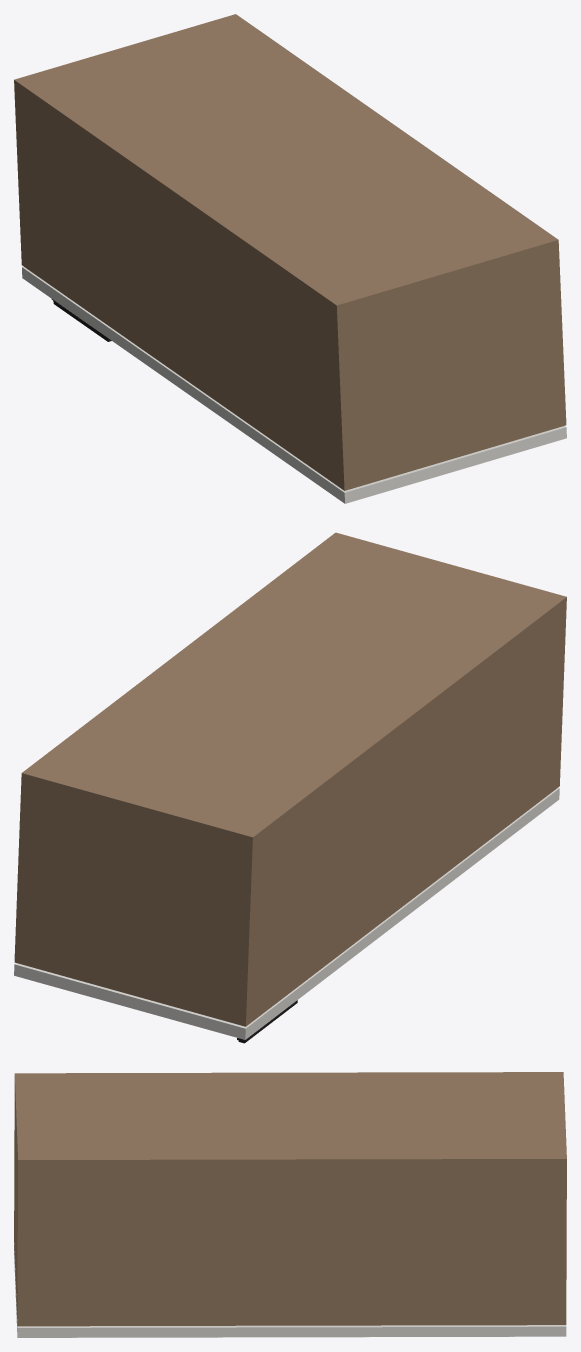
3 renders of one model, top to bottom at view 1: azimuth 30°, elevation 25°; view 2: azimuth 150°, elevation 25°; view 3: azimuth 270°, elevation 25°, orthographic. The views are drawn at different scales.
Visible parts, largest first — view 1: cabinet_carcass/0, front_front/1; view 2: cabinet_carcass/0, front_front/1; view 3: cabinet_carcass/0, front_front/1.
Boxes of the visible parts, x1,y1,x2,y2 form: cabinet_carcass/0: [14, 14, 566, 490]; front_front/1: [22, 266, 566, 503]; cabinet_carcass/0: [14, 532, 566, 1026]; front_front/1: [14, 787, 559, 1039]; cabinet_carcass/0: [14, 1072, 566, 1326]; front_front/1: [14, 1243, 566, 1337].
Size of the model in its own units: 0.4024 by 0.3698 by 0.9213.
Materials: 13 (1 with a texture image).
